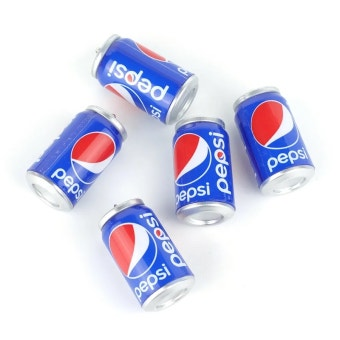paper: (96, 197, 198, 313), (23, 107, 126, 212), (229, 86, 317, 197), (91, 31, 198, 122), (170, 120, 238, 230)
